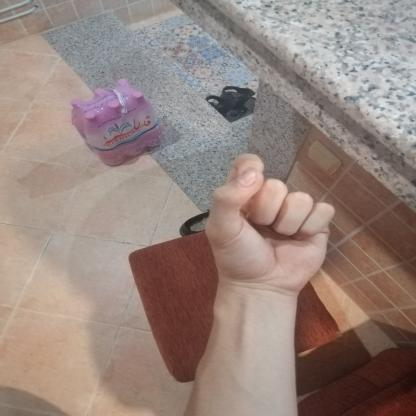FAA: (192, 143, 346, 306)
